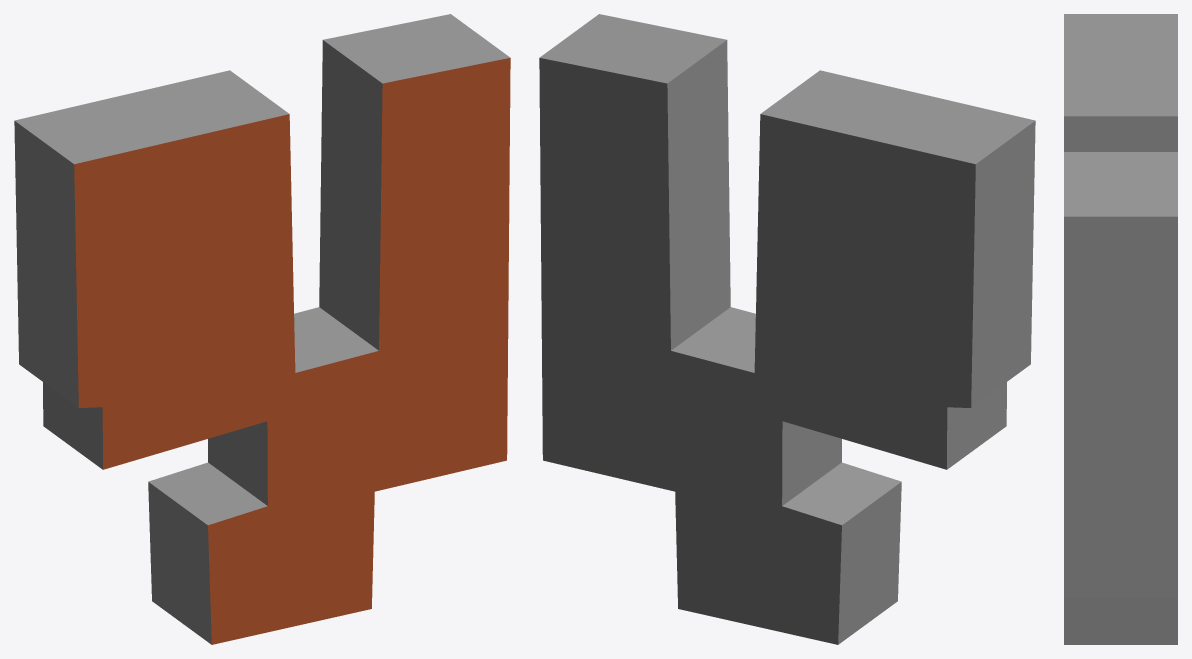
Rendered from construction_6916_assumed_A_Casa_h6m.obj.
The picture shows the model from 3 angles, left to right: view 1: azimuth 30°, elevation 25°; view 2: azimuth 150°, elevation 25°; view 3: azimuth 270°, elevation 25°; orthographic projection. The views are drawn at different scales.
Parts seen in each view (by area): view 1: construction_6916_assumed_A_Casa; view 2: construction_6916_assumed_A_Casa; view 3: construction_6916_assumed_A_Casa.
Part boxes in pixels (x1,y1,x2,y2): construction_6916_assumed_A_Casa: (14,14,510,644); construction_6916_assumed_A_Casa: (539,14,1035,644); construction_6916_assumed_A_Casa: (1064,14,1177,644).
Size of the model in its own units: 25.3 by 28.95 by 6.
